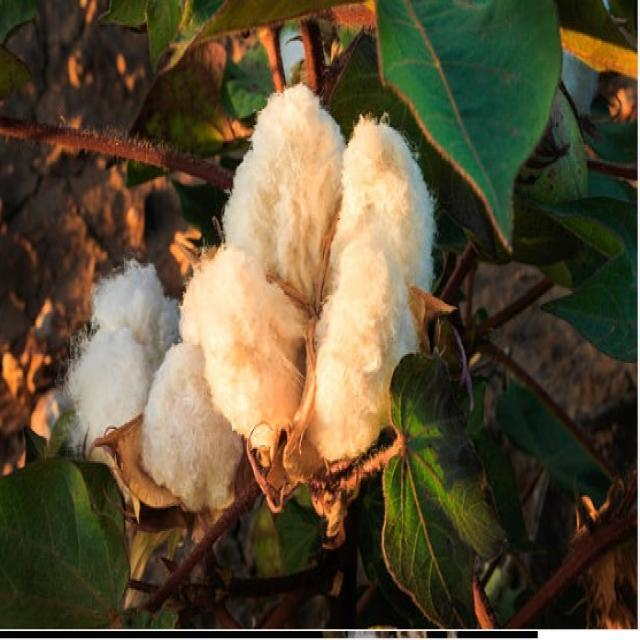Matured Cotton Boll: (202, 88, 436, 472), (68, 260, 232, 530)
